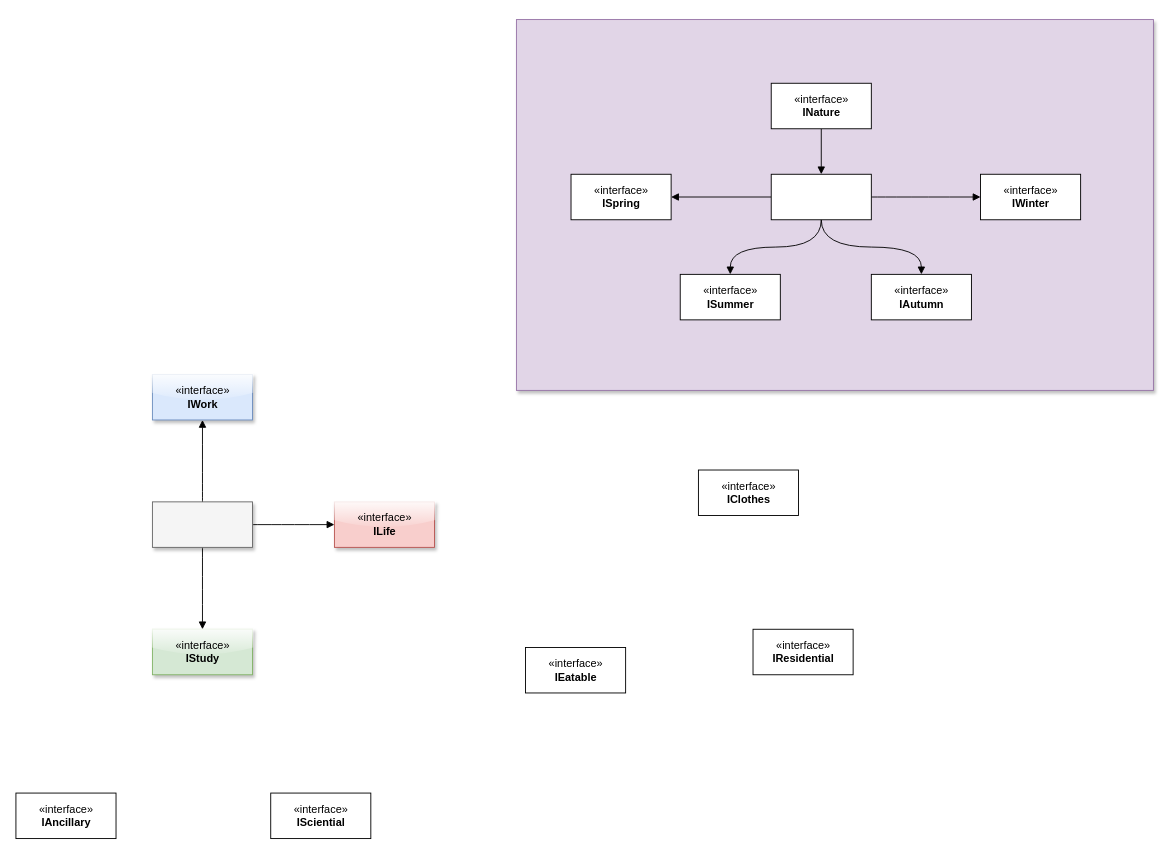
The diagram is 1175 pixels wide and 854 high, and some of its shapes have lost their labels. The centre of each missing label's shape, as x and y in pixels:
«interface» IMyItem: pixel 203 525
«interface» ISeason: pixel 820 196
